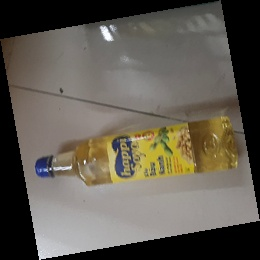Happy Soya: (33, 116, 240, 186)
